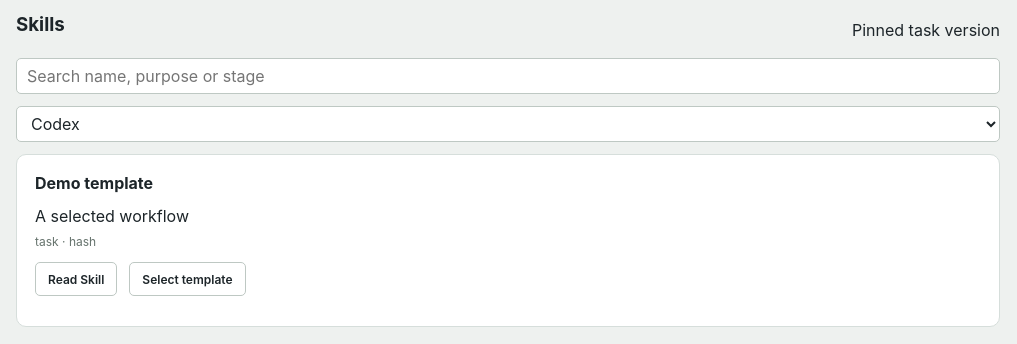
Test: Skill browsing reads only the selected body and keeps templates explicit
Check: the heading "Demo template" is shown, box [35,173,153,193]
Click the button "Read Skill": (76,279) [35,262,117,296]
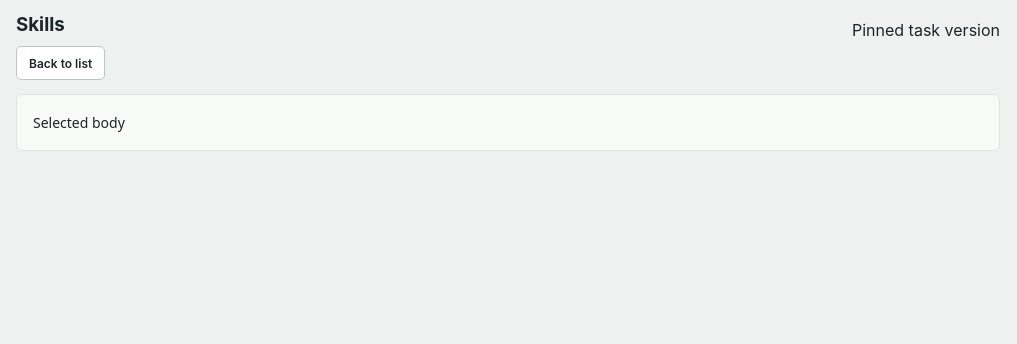
Check: the text "Selected body" is shown, box [16,94,1000,151]
